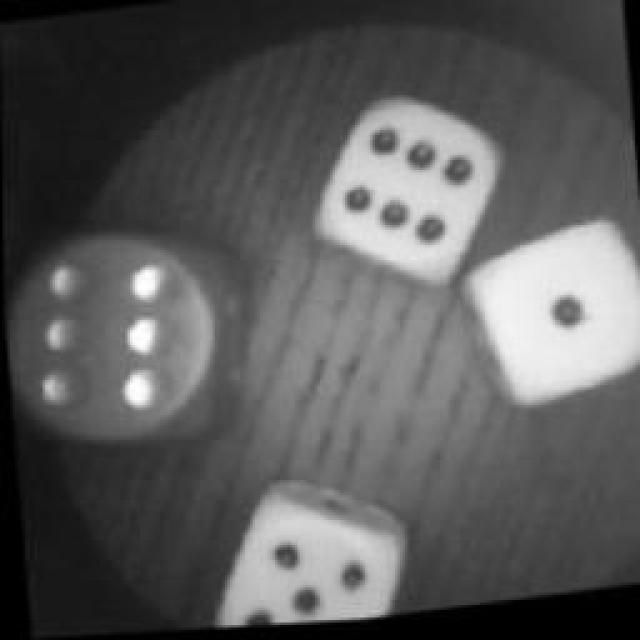dice_1: (459, 214, 639, 424)
dice_5: (195, 482, 410, 632)
dice_6: (3, 209, 248, 466), (304, 81, 508, 301)
